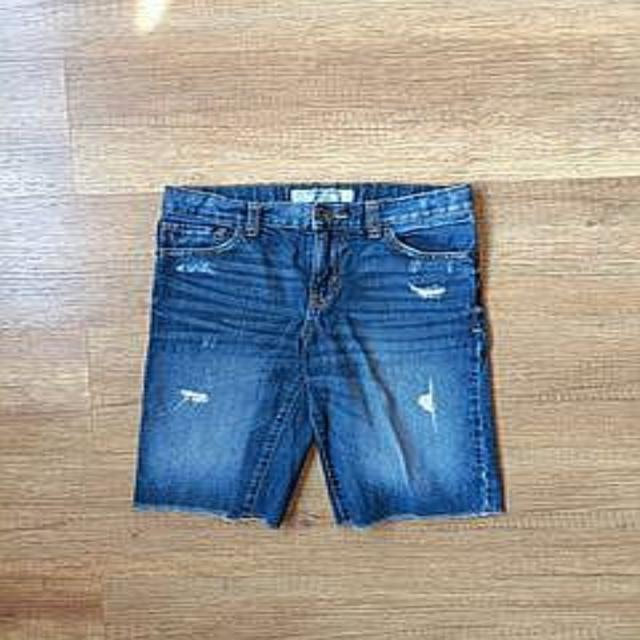SHORT: (128, 174, 516, 539)
